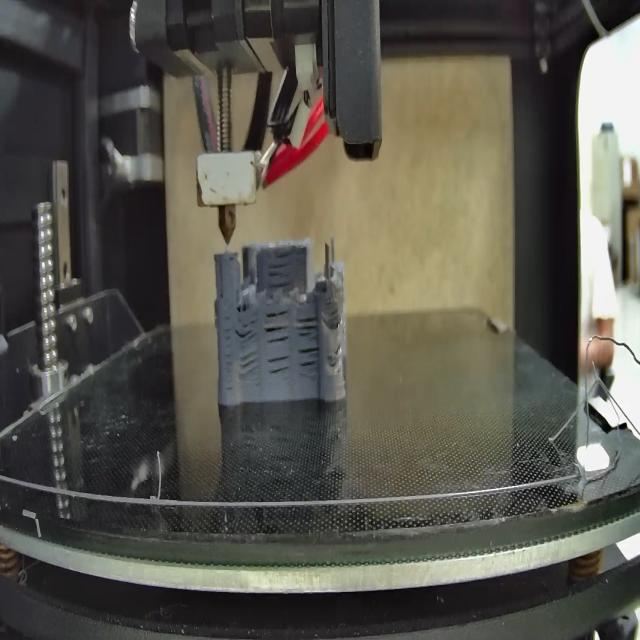cracks: (265, 251, 294, 286), (264, 307, 291, 343), (294, 344, 320, 378), (235, 314, 258, 346), (223, 322, 233, 392), (268, 352, 289, 381), (240, 347, 258, 378), (295, 315, 319, 337), (325, 305, 342, 326), (332, 341, 345, 358), (219, 286, 225, 302)
